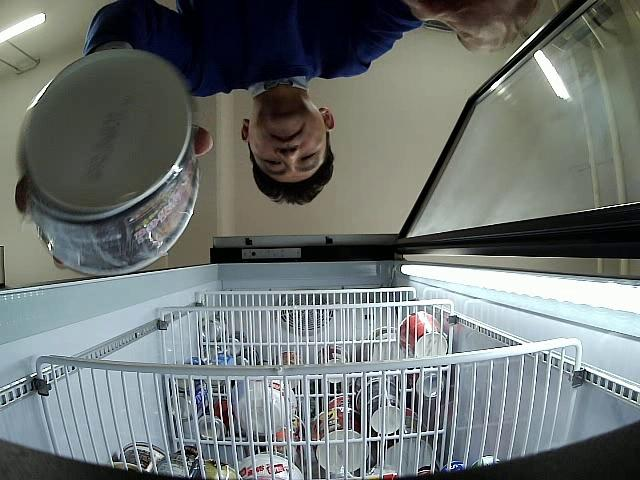00_hand: (15, 125, 214, 215)
07_buldak_L: (17, 47, 199, 276)
